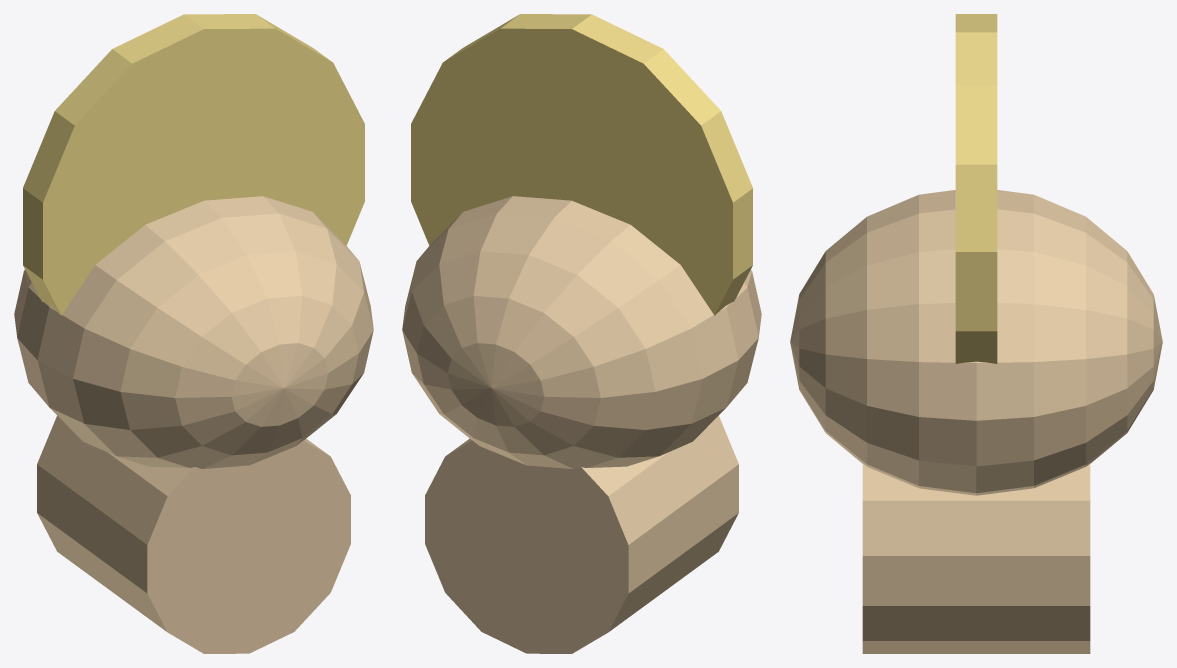
Rendered from bouchon.glb.
The picture shows the model from 3 angles, left to right: view 1: azimuth 30°, elevation 25°; view 2: azimuth 150°, elevation 25°; view 3: azimuth 270°, elevation 25°; orthographic projection. The views are drawn at different scales.
Visible parts, largest first — view 1: Sphere, Cylinder.001, Cylinder; view 2: Sphere, Cylinder.001, Cylinder; view 3: Sphere, Cylinder, Cylinder.001.
Boxes of the visible parts, x1,y1,x2,y2 form: Sphere: [14, 196, 373, 468]; Cylinder.001: [23, 14, 364, 315]; Cylinder: [37, 415, 350, 653]; Sphere: [402, 196, 761, 468]; Cylinder.001: [411, 14, 752, 315]; Cylinder: [425, 415, 738, 653]; Sphere: [790, 190, 1162, 495]; Cylinder: [862, 464, 1090, 653]; Cylinder.001: [955, 14, 997, 363].
Size of the model in its own units: 0.037 by 0.065 by 0.036.
